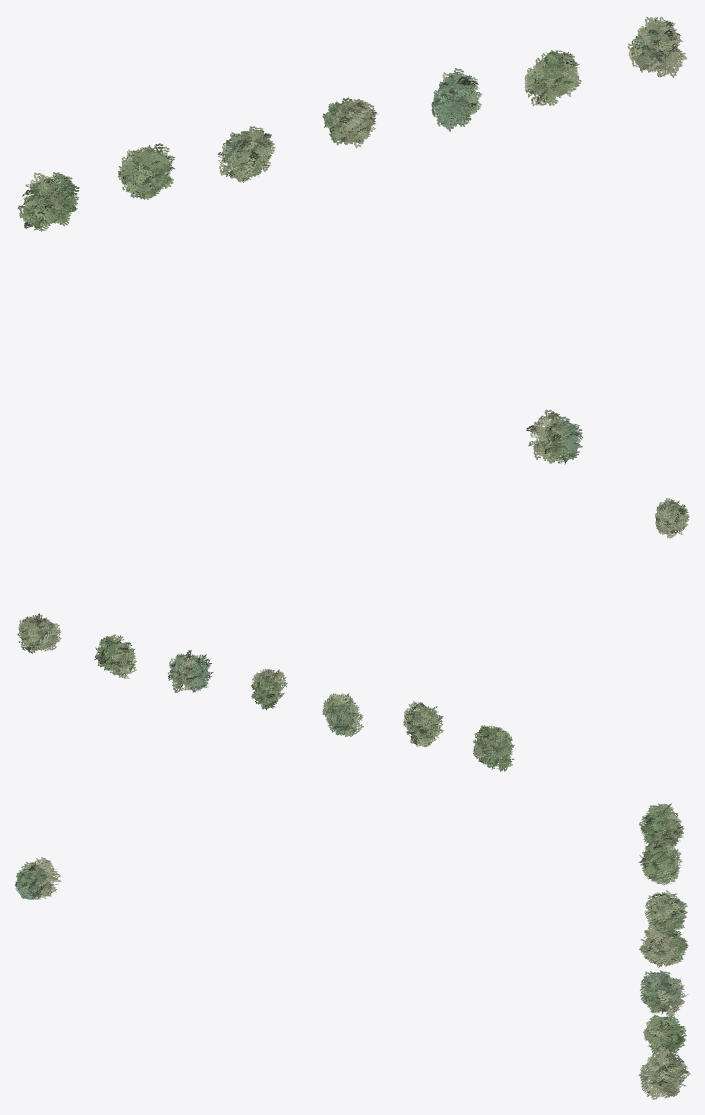
The model's file is campus-tree--1_-4-near.glb.
3 views of the same model, one above another, from view 1: azimuth 30°, elevation 25°; view 2: azimuth 150°, elevation 25°; view 3: azimuth 270°, elevation 25° (orthographic). The views are drawn at different scales.
Parts seen in each view (by area): view 1: Campus leaf canopy; view 2: Campus leaf canopy; view 3: Campus leaf canopy.
Boxes of the visible parts, bbox=[...] form: Campus leaf canopy: bbox=[17, 16, 687, 464]; Campus leaf canopy: bbox=[17, 498, 689, 771]; Campus leaf canopy: bbox=[15, 803, 690, 1099].
Size of the model in its own units: 73.15 by 7.08 by 77.03.
Materials: 1 (1 with a texture image).
